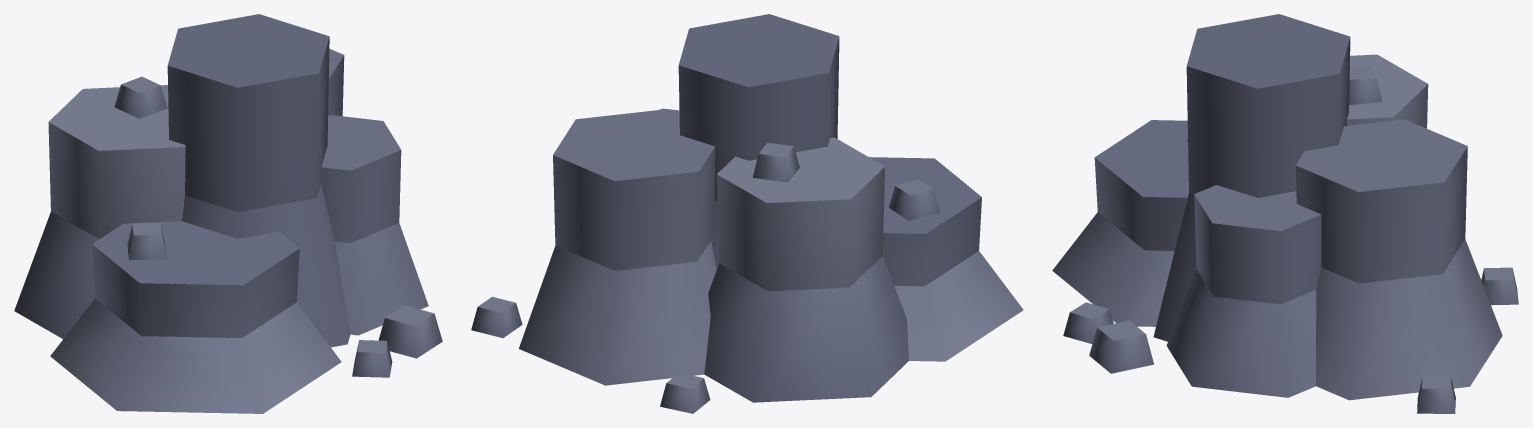
Rendered from kenney-pirate-rocks-c.glb.
3 views of the same model, side by side, from view 1: azimuth 30°, elevation 25°; view 2: azimuth 150°, elevation 25°; view 3: azimuth 270°, elevation 25° (orthographic).
Parts seen in each view (by area): view 1: rocks-c; view 2: rocks-c; view 3: rocks-c.
Boxes of the visible parts, x1,y1,x2,y2 form: rocks-c: (14,14,442,413); rocks-c: (471,14,1023,413); rocks-c: (1052,14,1518,413).
Size of the model in its own units: 3.64 by 2.3 by 3.67.
1 material, 1 textured.
